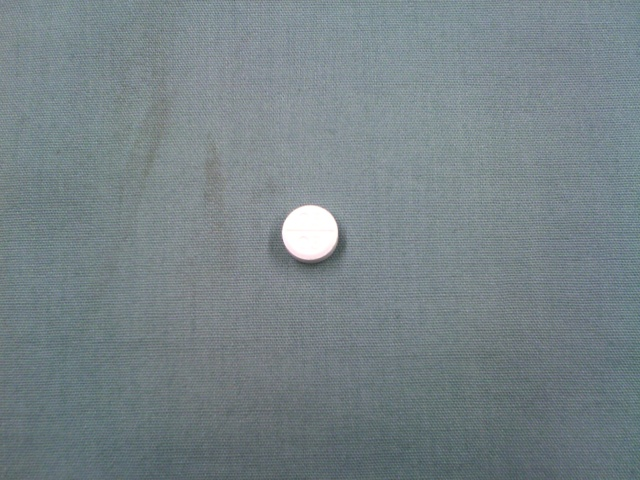|: (280, 225, 336, 239)
